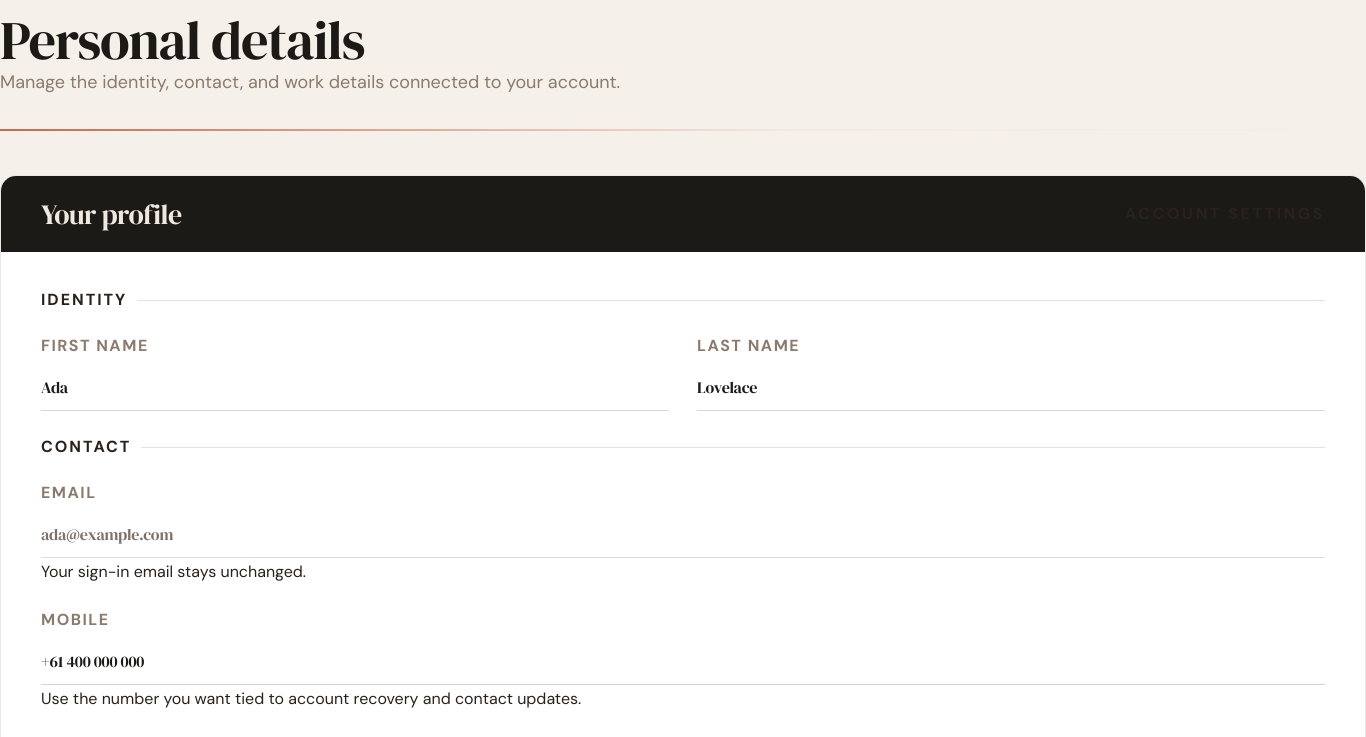
Test: ProfileScreen › resets edited fields back to the baseline
Replace the text in the field labelled "First name" with "Grace". click: (355, 389)
box: x1=41 y1=367 x2=669 y2=411
(page scrolled)
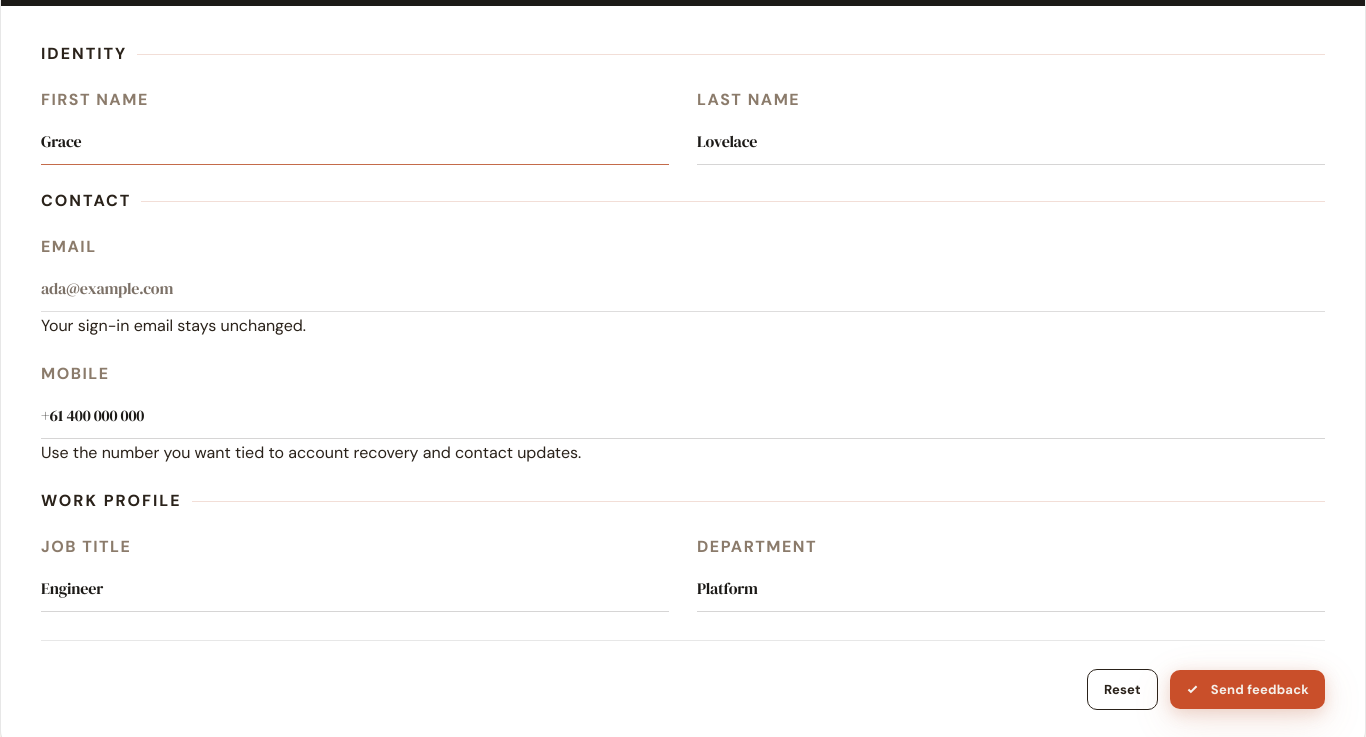
Click the button "Reset". click: (1122, 690)
box: x1=1087 y1=669 x2=1158 y2=710
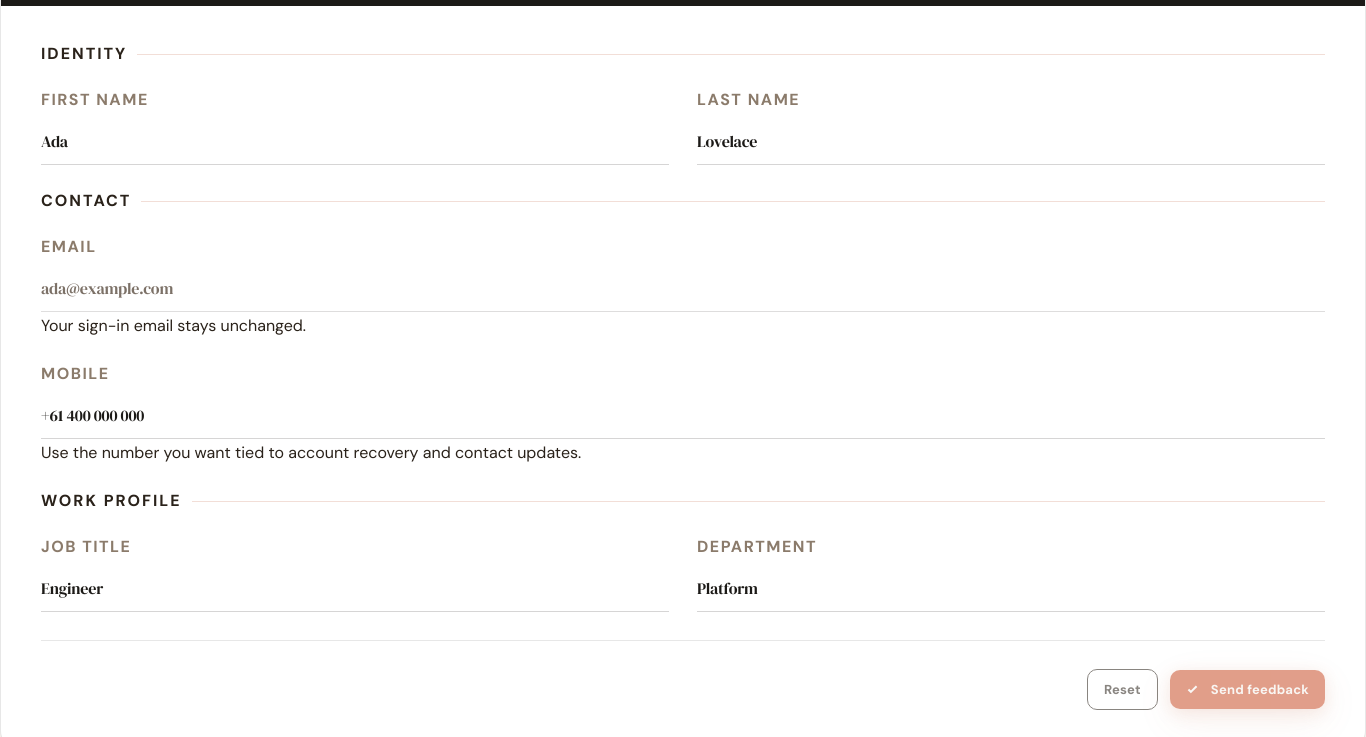
Result: the field labelled "First name" holds "Ada" at x1=41 y1=121 x2=669 y2=165
Result: the button "Send feedback" is disabled at x1=1170 y1=670 x2=1325 y2=709
